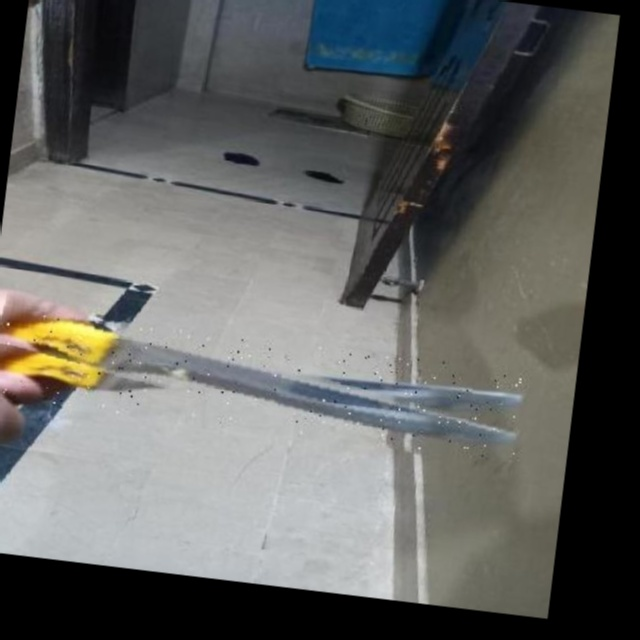Sharp-Object: (0, 308, 526, 460)
